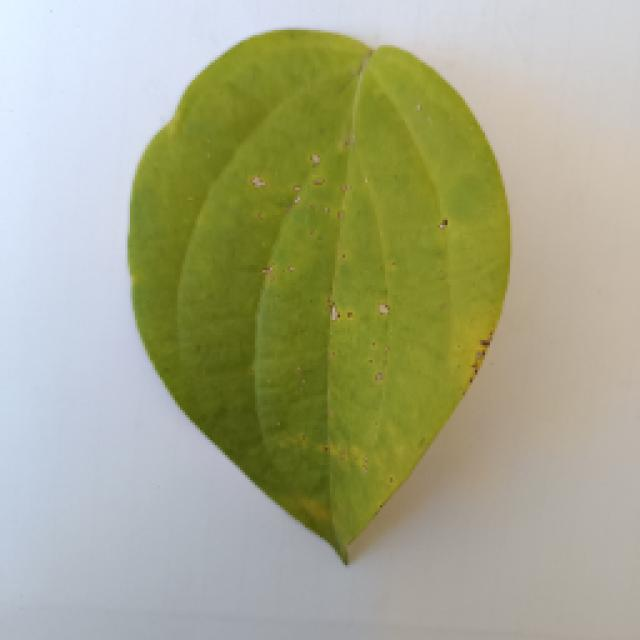slow-decline: (105, 30, 525, 565)
